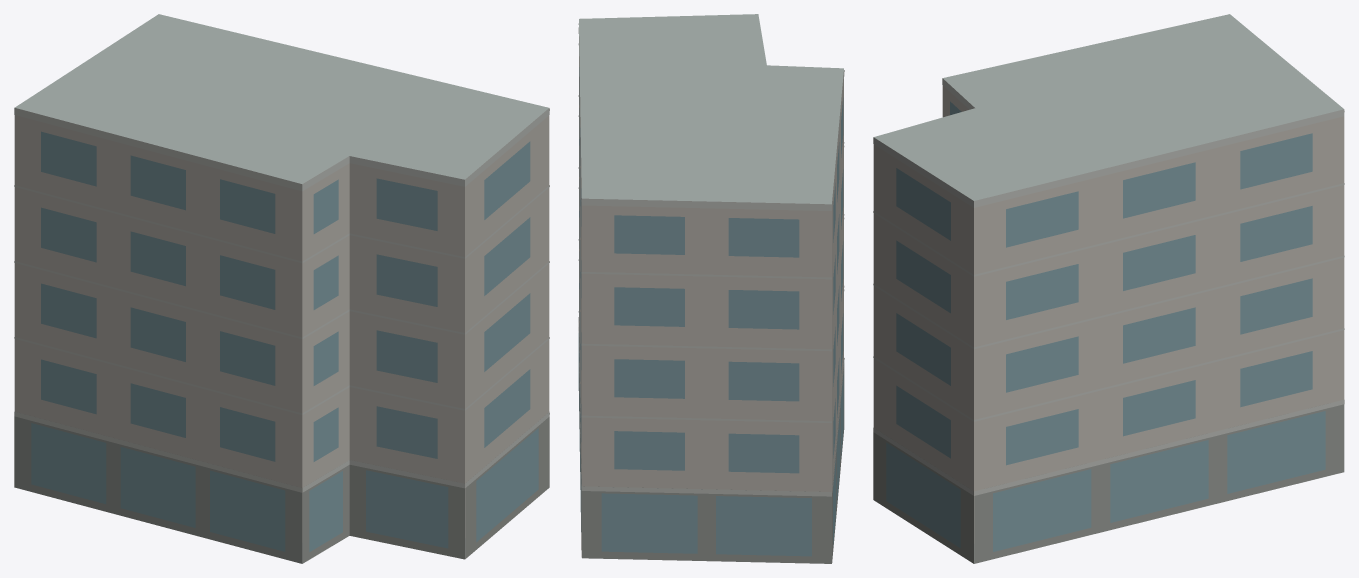
File: survey-upis-32727884.glb
3 views of the same model, side by side, from view 1: azimuth 30°, elevation 25°; view 2: azimuth 150°, elevation 25°; view 3: azimuth 270°, elevation 25° (orthographic). The views are drawn at different scales.
Parts seen in each view (by area): view 1: survey-upis-32727884.tmp; view 2: survey-upis-32727884.tmp; view 3: survey-upis-32727884.tmp.
Part boxes in pixels (x1,y1,x2,y2): survey-upis-32727884.tmp: [14, 14, 549, 563]; survey-upis-32727884.tmp: [578, 14, 844, 563]; survey-upis-32727884.tmp: [873, 14, 1344, 563].
Size of the model in its own units: 14.17 by 12.8 by 15.08.
